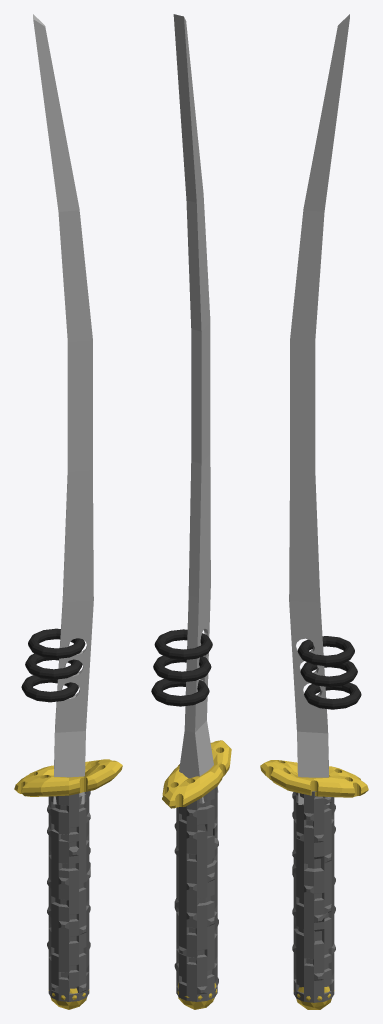
The model's file is Katana.fbx.
3 renders of one model, left to right at view 1: azimuth 90°, elevation 25°; view 2: azimuth 150°, elevation 25°; view 3: azimuth 270°, elevation 25°, orthographic.
Parts seen in each view (by area): view 1: Katana; view 2: Katana; view 3: Katana.
Boxes of the visible parts, x1,y1,x2,y2 form: Katana: (14,14,122,1009); Katana: (151,14,231,1009); Katana: (260,14,368,1009).
Size of the model in its own units: 396 by 7041 by 699.
